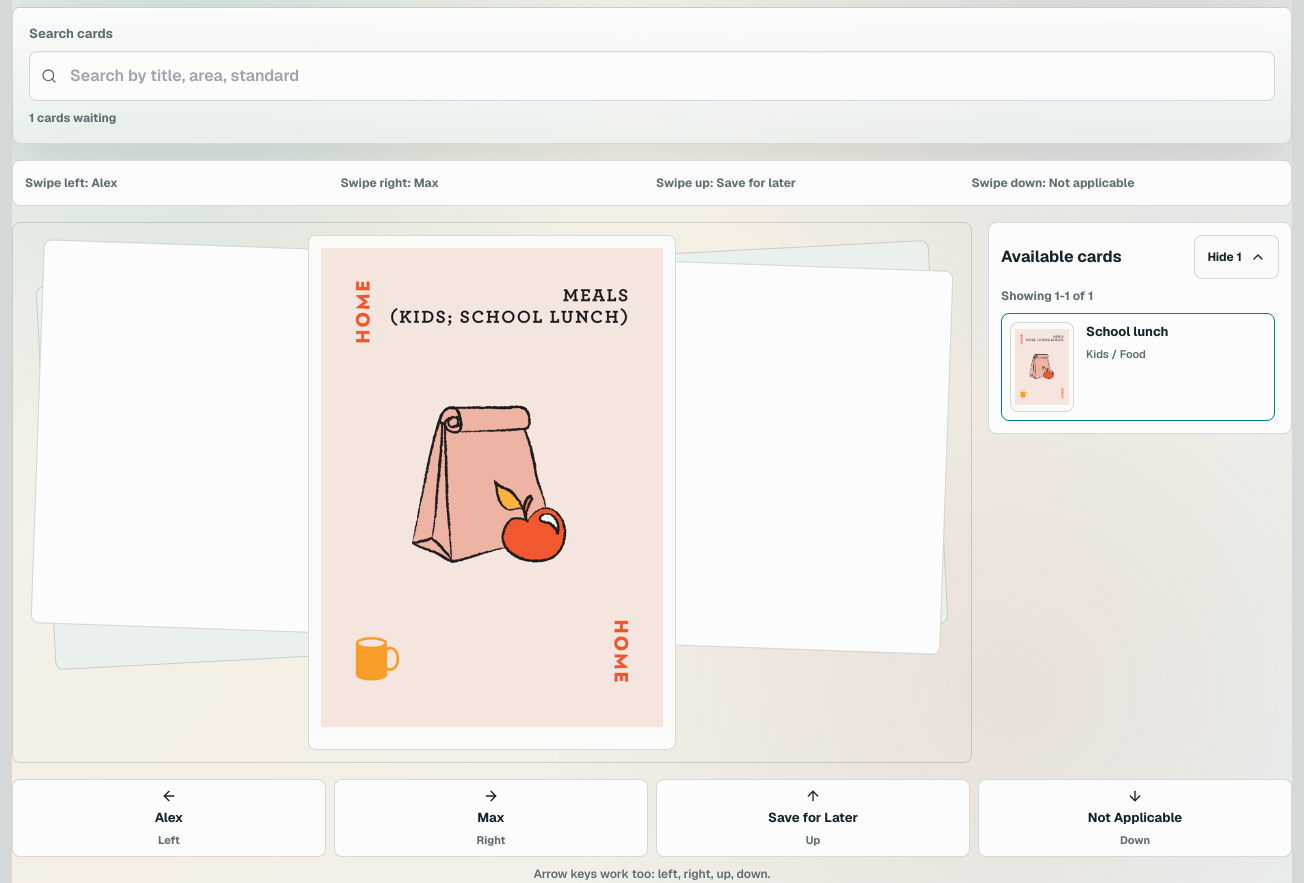
Test: CardWorkspace › distributes the top card through fallback buttons
This screenshot has width=1304, height=883.
(page scrolled)
Click the button "Alex Left": (169, 818) x1=12 y1=779 x2=326 y2=857
(page scrolled)
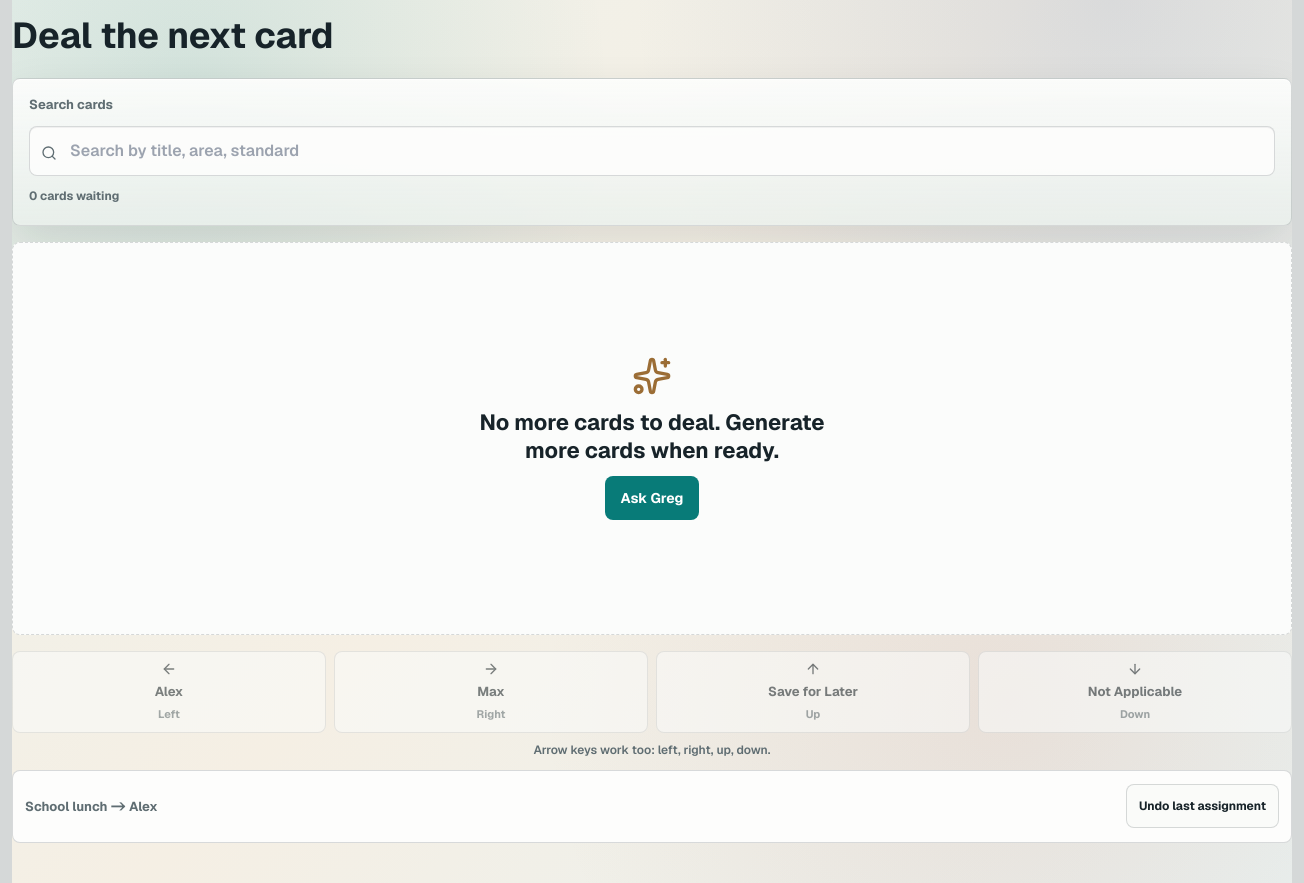
Result: the heading "No more cards to deal. Generate more cards when ready." is shown at x1=460 y1=408 x2=844 y2=464
